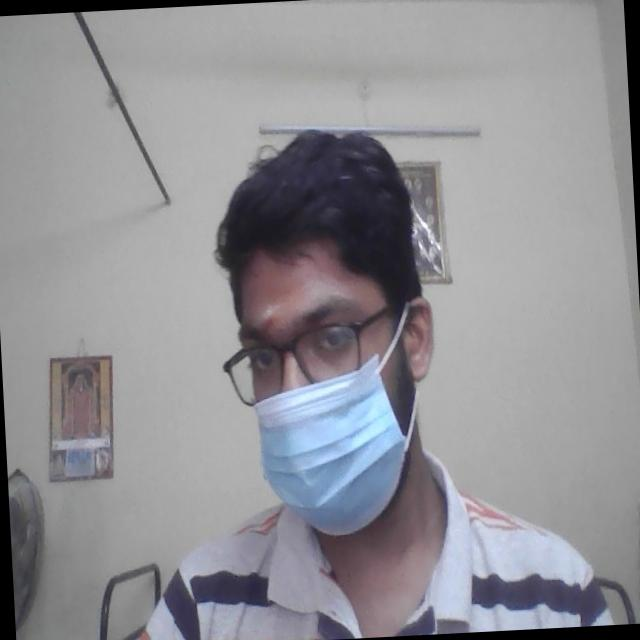Focused: (231, 262, 414, 521)
